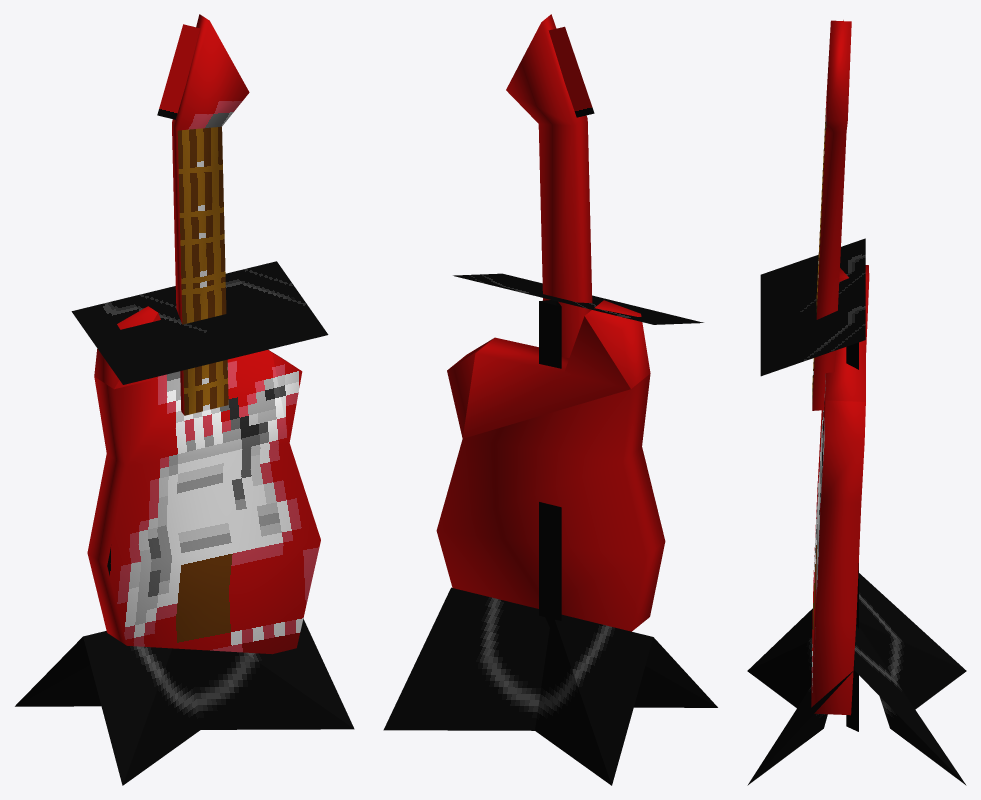
3 renders of one model, left to right at view 1: azimuth 30°, elevation 25°; view 2: azimuth 150°, elevation 25°; view 3: azimuth 270°, elevation 25°, orthographic. The views are drawn at different scales.
Parts seen in each view (by area): view 1: 1346gakki05_c; view 2: 1346gakki05_c; view 3: 1346gakki05_c.
Boxes of the visible parts, bbox=[...] form: 1346gakki05_c: bbox=[15, 14, 354, 785]; 1346gakki05_c: bbox=[383, 14, 717, 785]; 1346gakki05_c: bbox=[747, 20, 966, 785].
Bounding box in the file's own units: 0.6792 × 1.96 × 0.5476.
2 materials, 2 textured.
